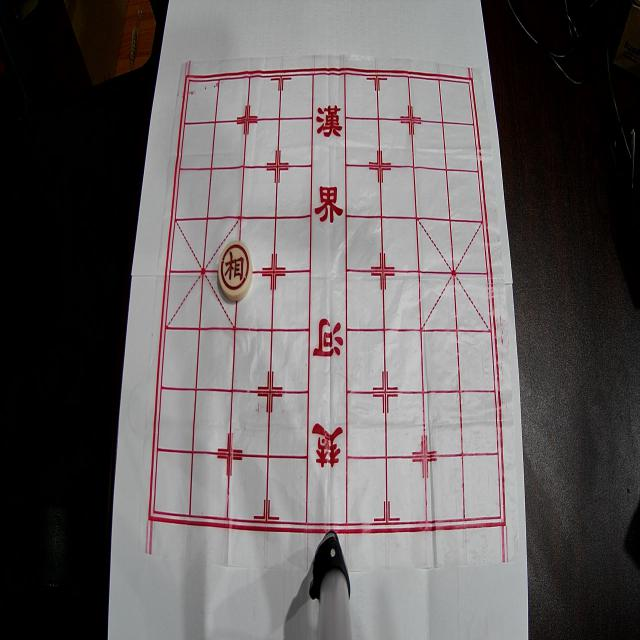red-elephant: (218, 241, 252, 301)
